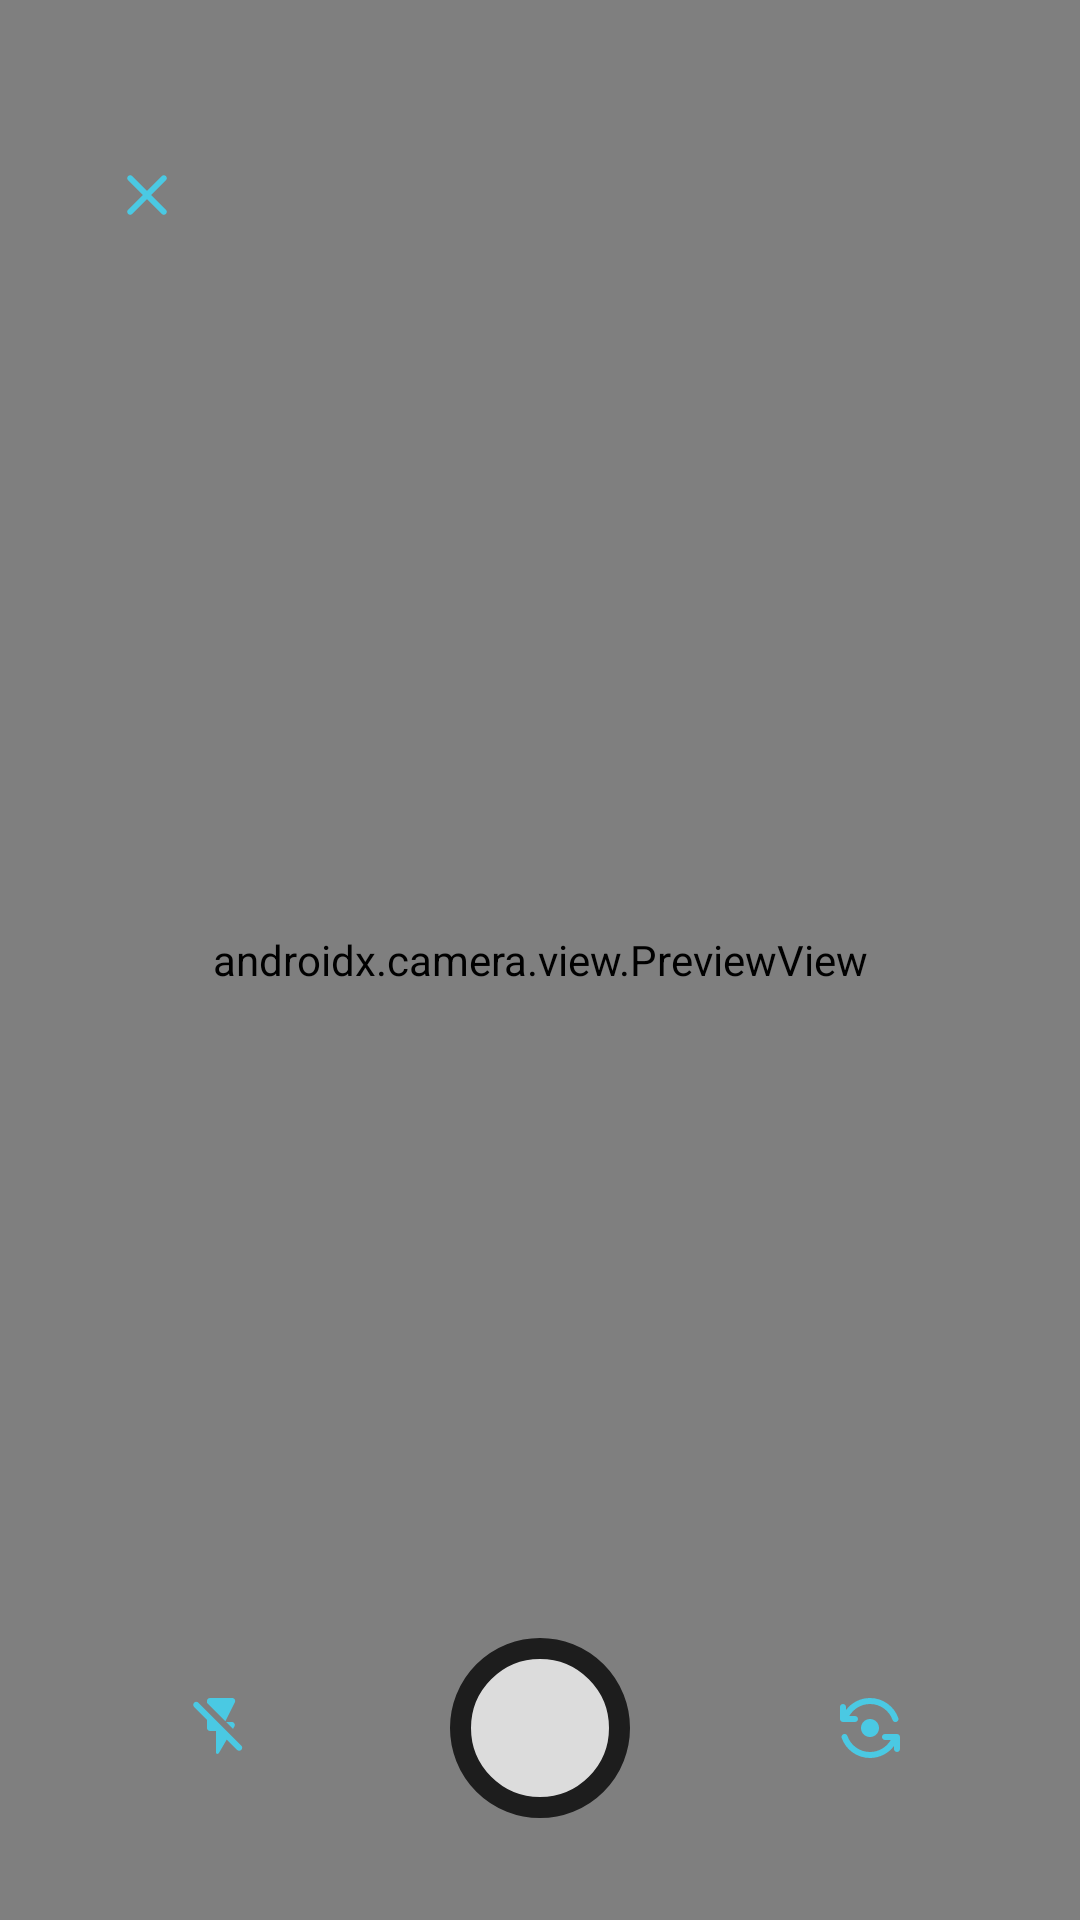

Point at icon controls on the screen. Image size 1080 × 1920, points as (x,y).
Close: (147,195)
Flash Option: (217,1726)
Flip Camera: (870,1728)
Snap: (540,1728)
